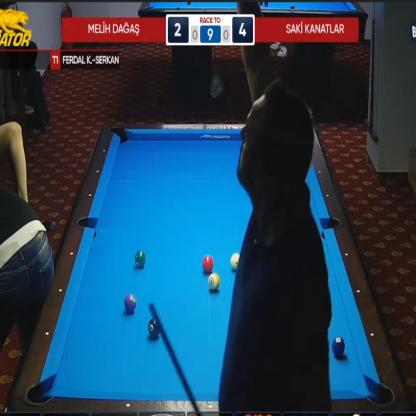Ball: (147, 317, 161, 339), (332, 336, 346, 357), (124, 294, 136, 314), (134, 250, 146, 268), (202, 256, 214, 274), (208, 273, 220, 291), (230, 252, 241, 271)
